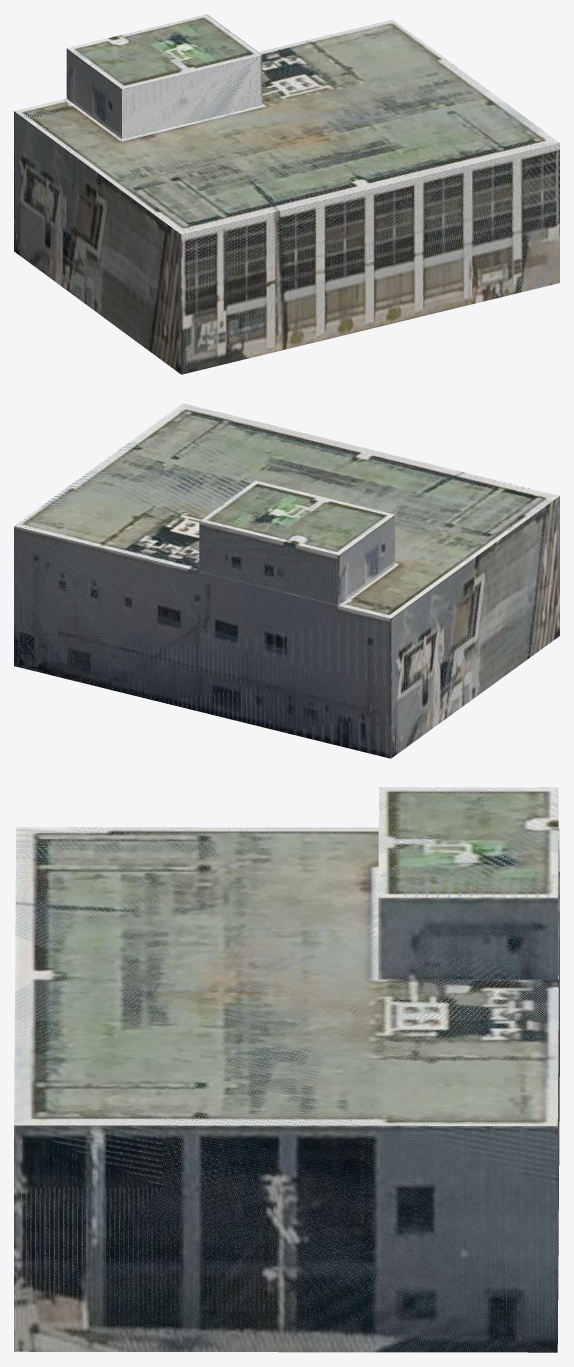
3 renders of one model, top to bottom at view 1: azimuth 30°, elevation 25°; view 2: azimuth 150°, elevation 25°; view 3: azimuth 270°, elevation 25°, orthographic. The views are drawn at different scales.
Parts seen in each view (by area): view 1: skp1223_1; view 2: skp1223_1; view 3: skp1223_1.
Part boxes in pixels (x1,y1,x2,y2): skp1223_1: (14,14,559,374); skp1223_1: (14,403,559,758); skp1223_1: (14,787,559,1352).
Size of the model in its own units: 1183 by 569 by 914.
